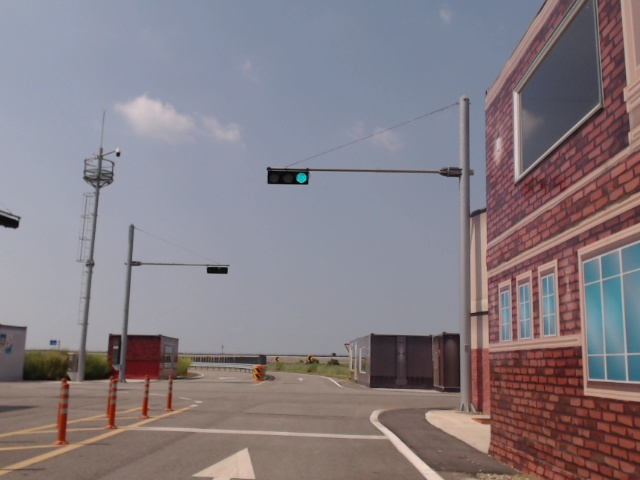green_3: (267, 169, 309, 185)
